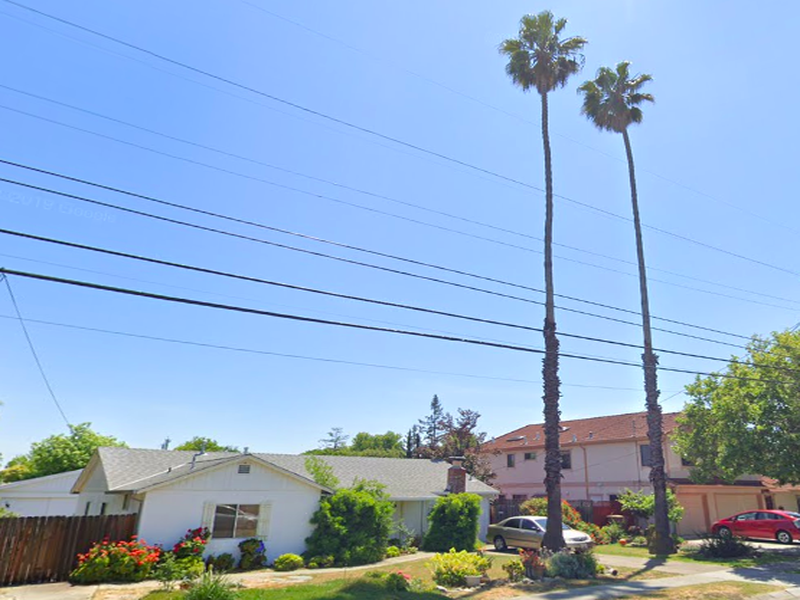tree: (577, 58, 681, 555), (497, 10, 589, 571)
